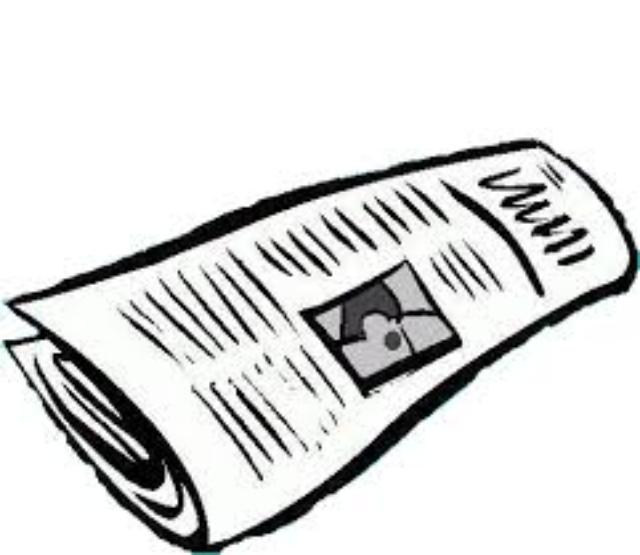cardboard paper: (5, 138, 632, 544)
